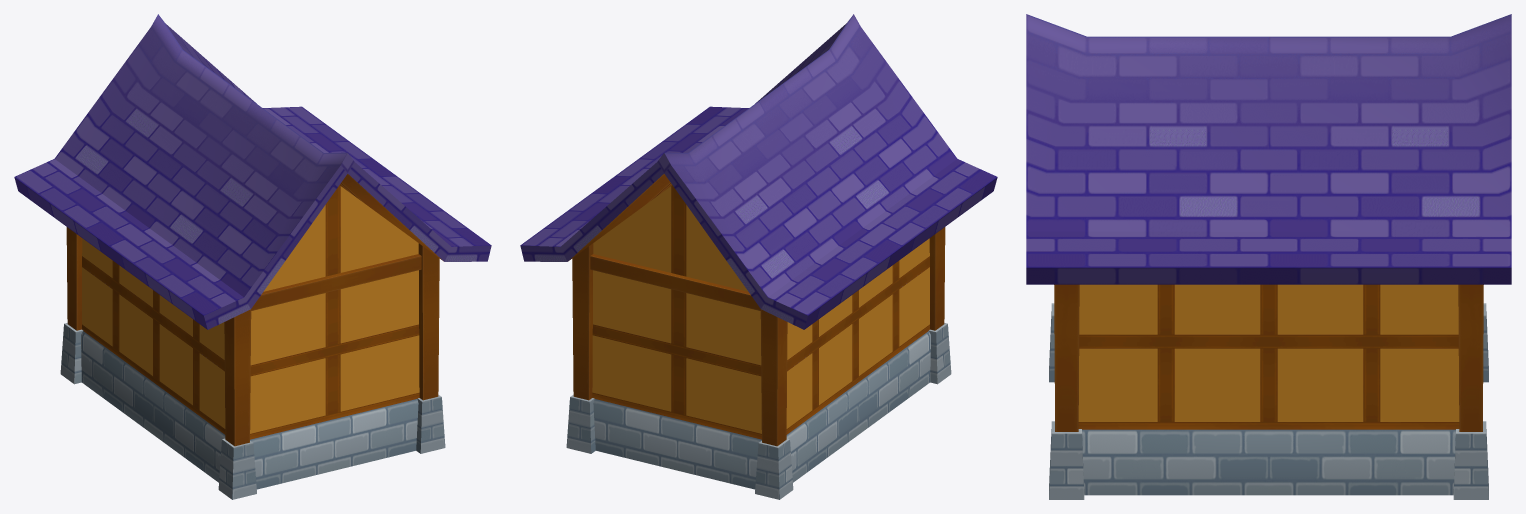
Rendered from HOS0310003.fbx.
3 renders of one model, left to right at view 1: azimuth 30°, elevation 25°; view 2: azimuth 150°, elevation 25°; view 3: azimuth 270°, elevation 25°, orthographic. The views are drawn at different scales.
Parts seen in each view (by area): view 1: smHOS0310003; view 2: smHOS0310003; view 3: smHOS0310003.
Part boxes in pixels (x1,y1,x2,y2): smHOS0310003: (14, 14, 491, 499); smHOS0310003: (520, 14, 997, 499); smHOS0310003: (1026, 14, 1511, 499).
Size of the model in its own units: 343 by 373 by 391.
Materials: 1 (1 with a texture image).
